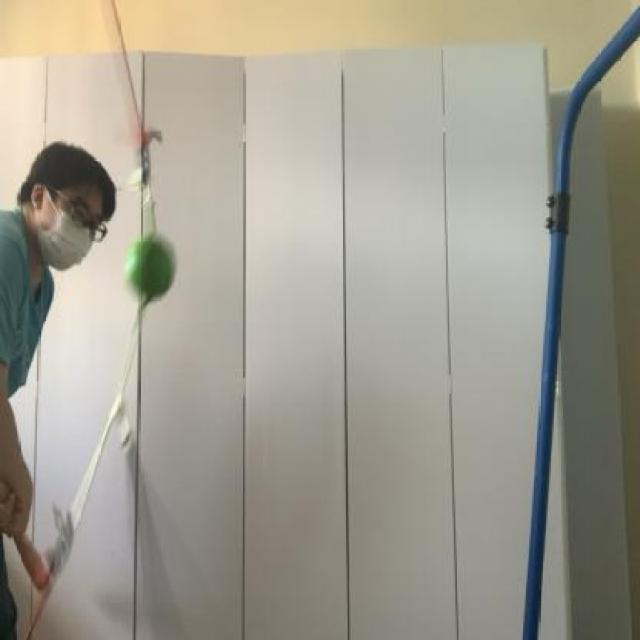baseball: (119, 218, 184, 319)
